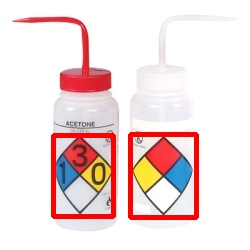nfpa: (130, 134, 196, 217), (53, 135, 113, 216)
